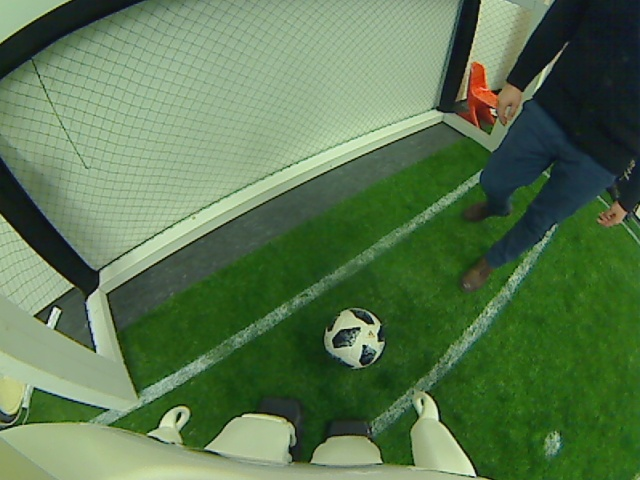ball: (325, 305, 385, 373)
